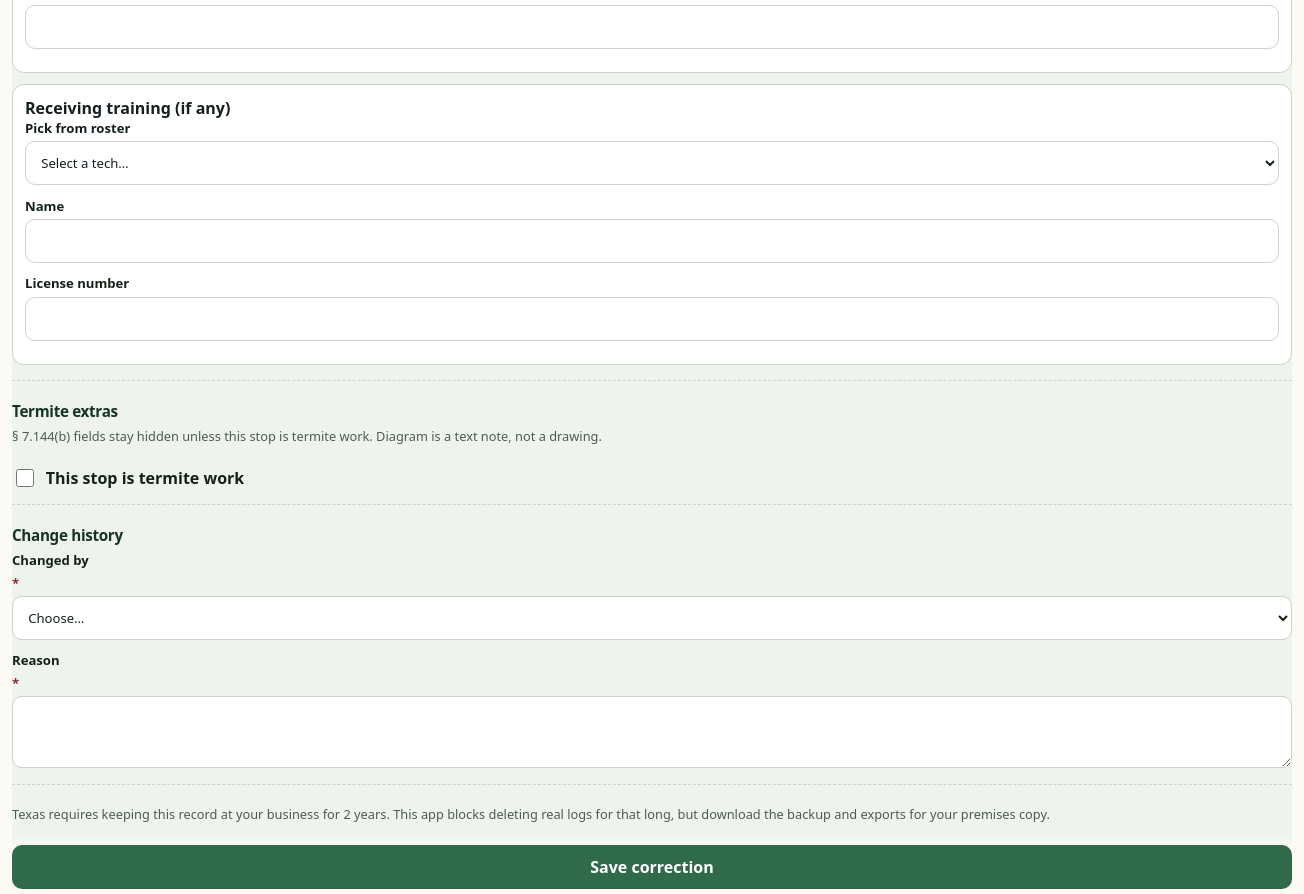
Test: NewLogForm — Correct this log › refuses a save with no field changes
(page scrolled)
Select "Ana Office" in the dropdown labelled "Changed by *" at (652,618), box [12,596,1292,640]
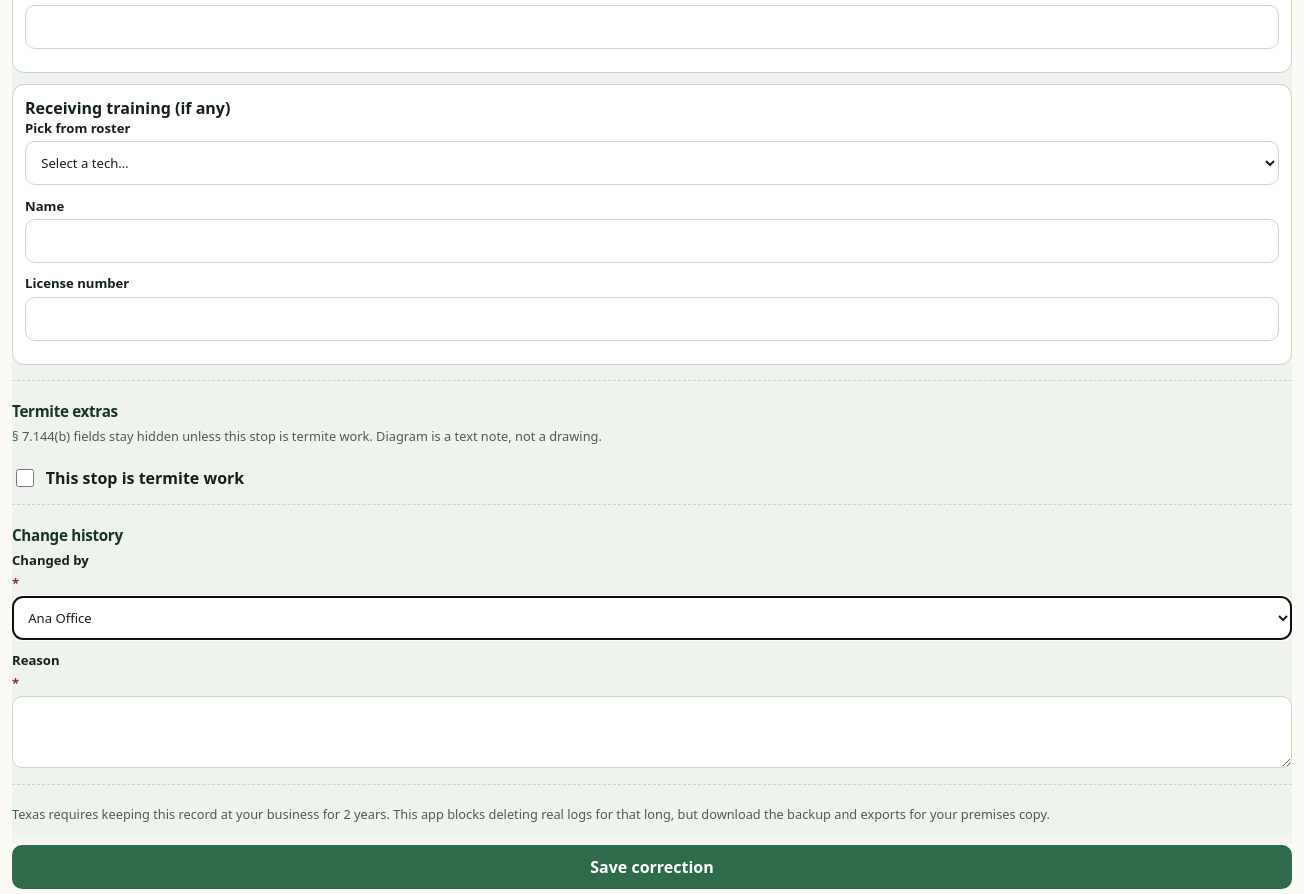
Type "Checked" into the text box labelled "Reason *" at (652,732), box [12,696,1292,768]
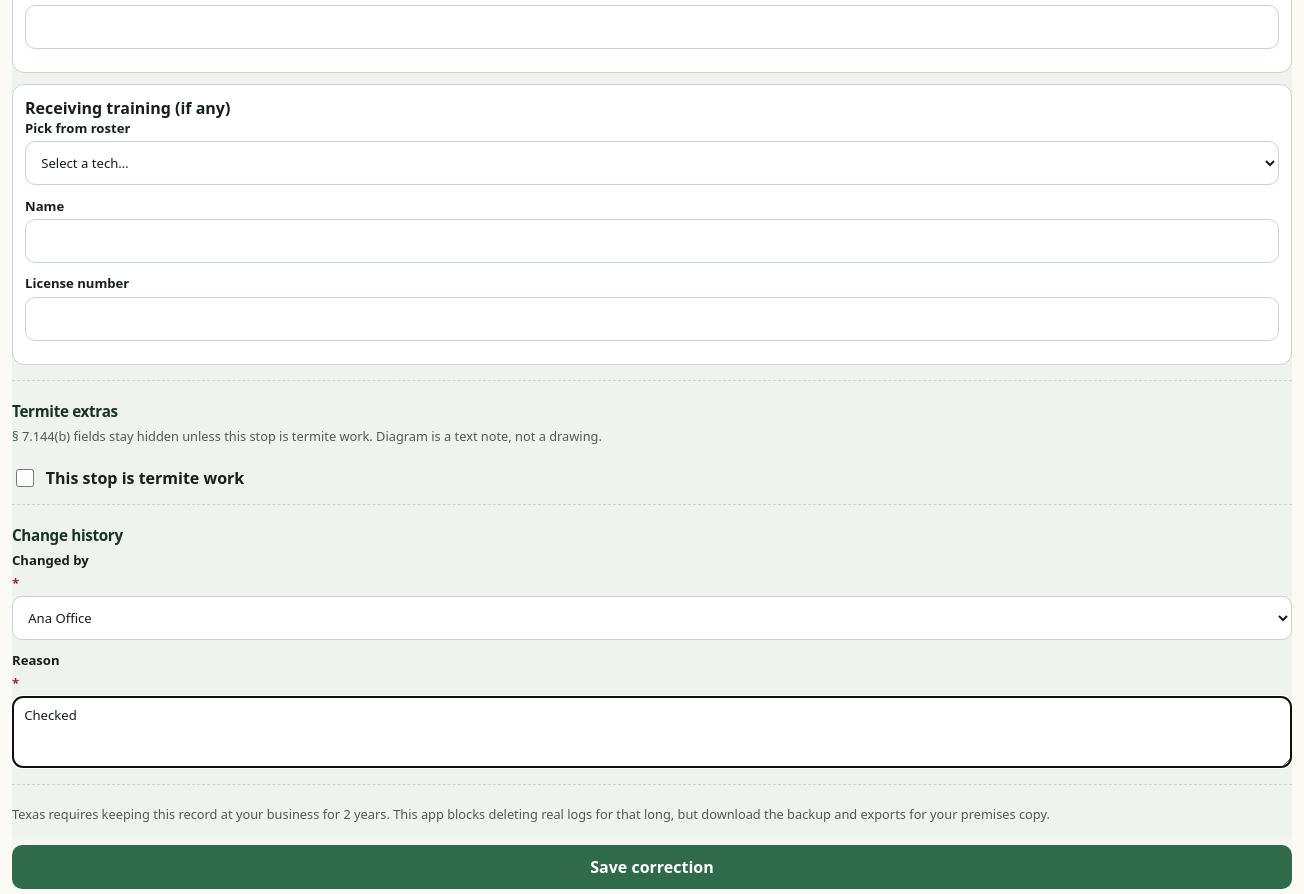
Click the button "Save correction" at (652,866), box [12,844,1292,888]
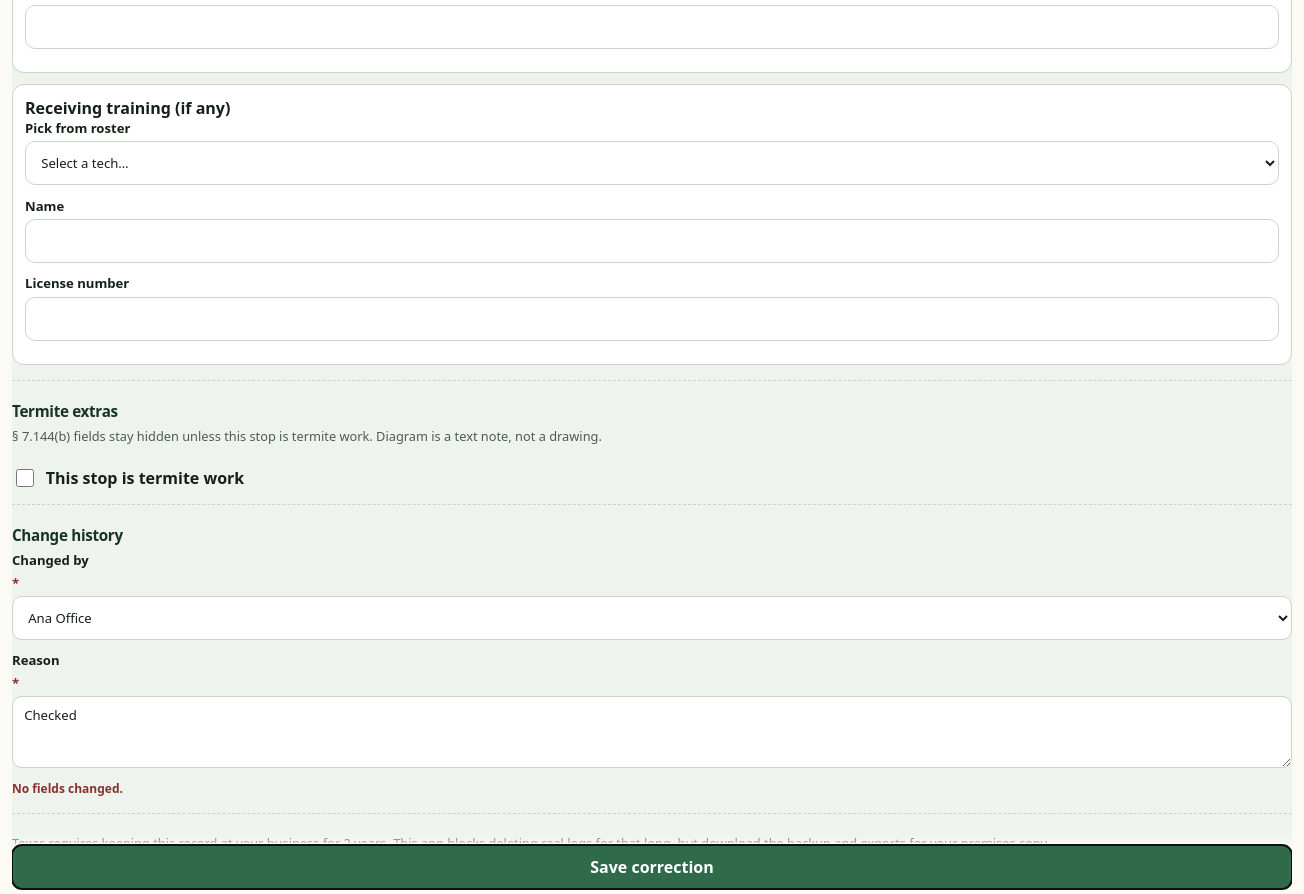
Result: the message reads "No fields changed." at [12,780,123,796]
